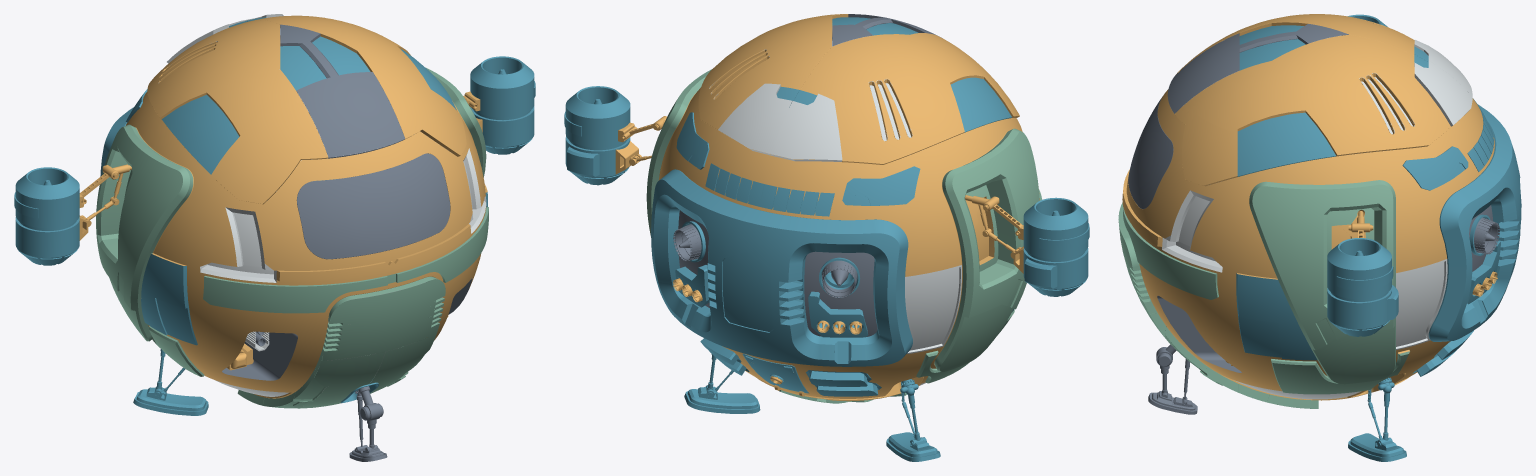
The model's file is SUP_Spherical_ship.glb.
The picture shows the model from 3 angles, left to right: view 1: azimuth 30°, elevation 25°; view 2: azimuth 150°, elevation 25°; view 3: azimuth 270°, elevation 25°; orthographic projection.
Visible parts, largest first — view 1: SUP_Spherical_ship; view 2: SUP_Spherical_ship; view 3: SUP_Spherical_ship.
Part boxes in pixels (x1,y1,x2,y2): SUP_Spherical_ship: (14,14,535,461); SUP_Spherical_ship: (564,14,1089,461); SUP_Spherical_ship: (1118,14,1521,461).
Size of the model in its own units: 7773 by 5463 by 5262.
